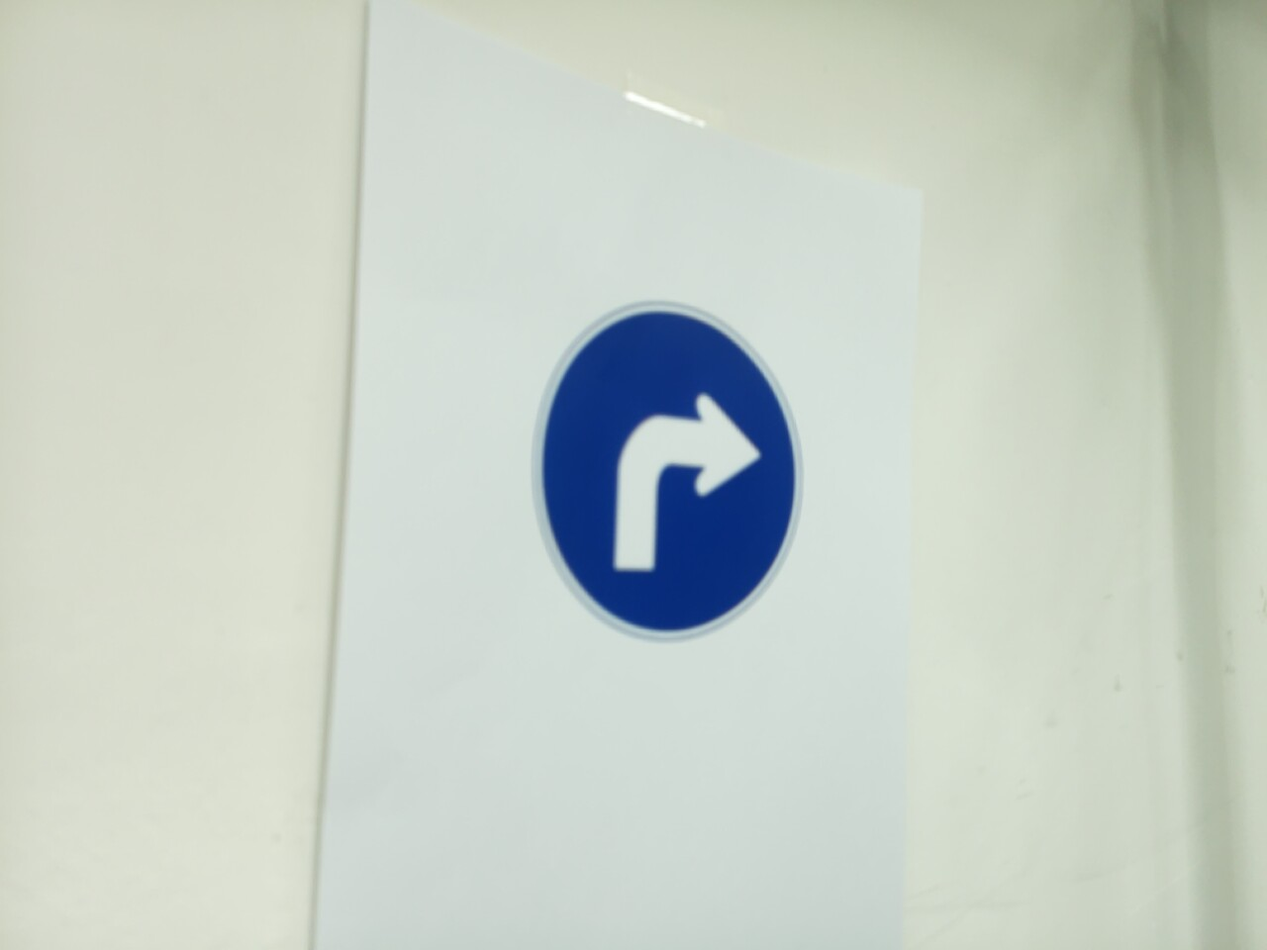right_turn: (534, 301, 804, 641)
